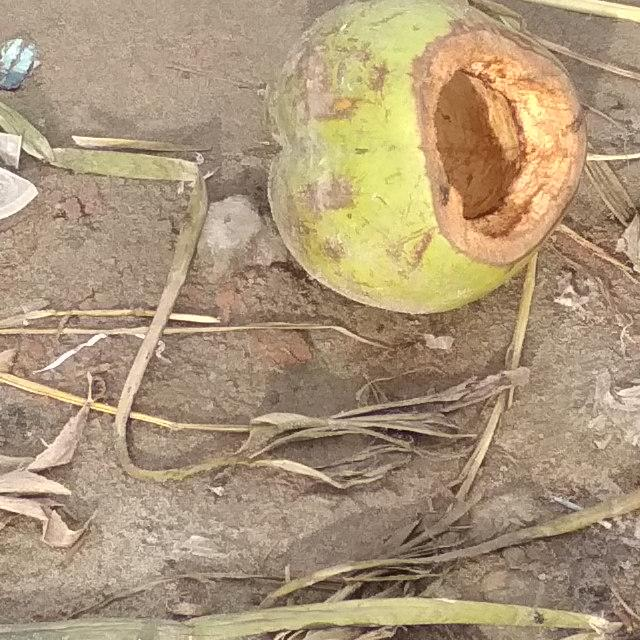food_waste: (229, 0, 610, 338)
